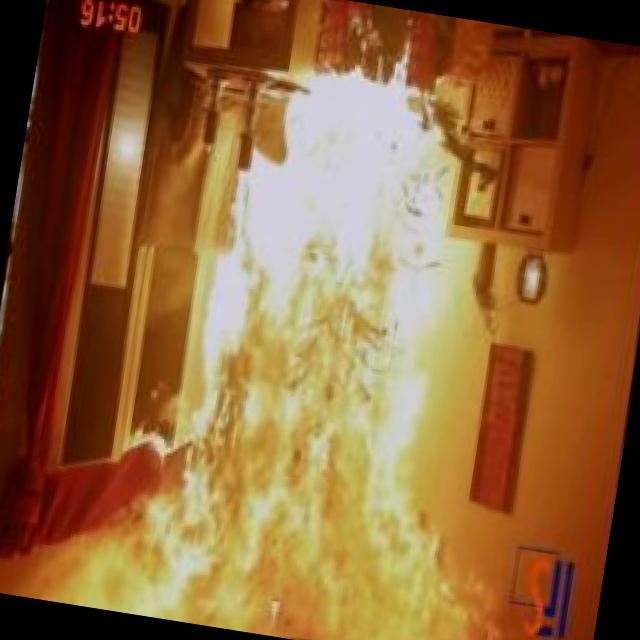fire: (87, 11, 562, 640)
